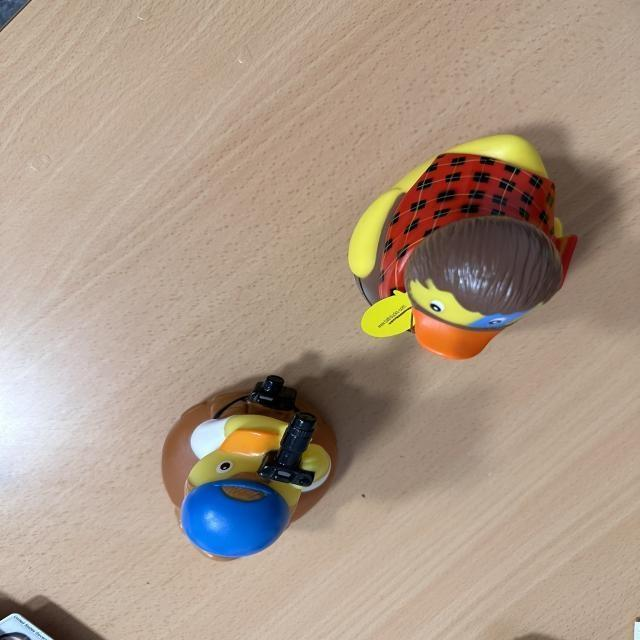rubber-duck: (347, 134, 575, 357), (161, 374, 334, 556)
